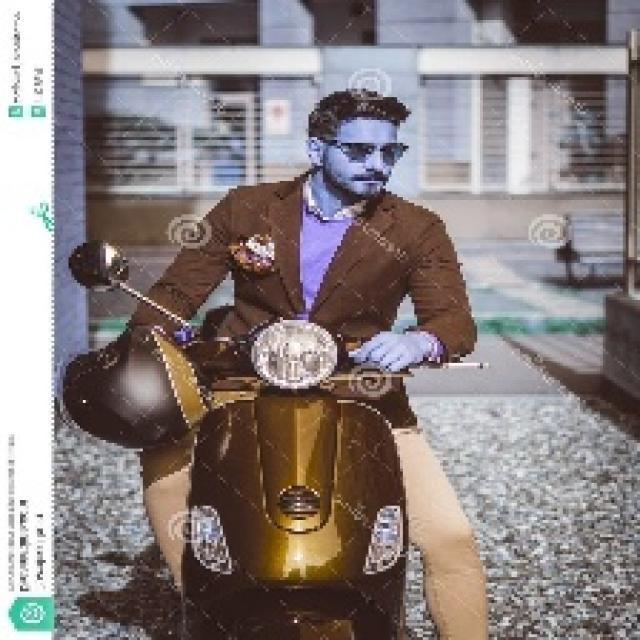bike: (144, 306, 442, 640)
